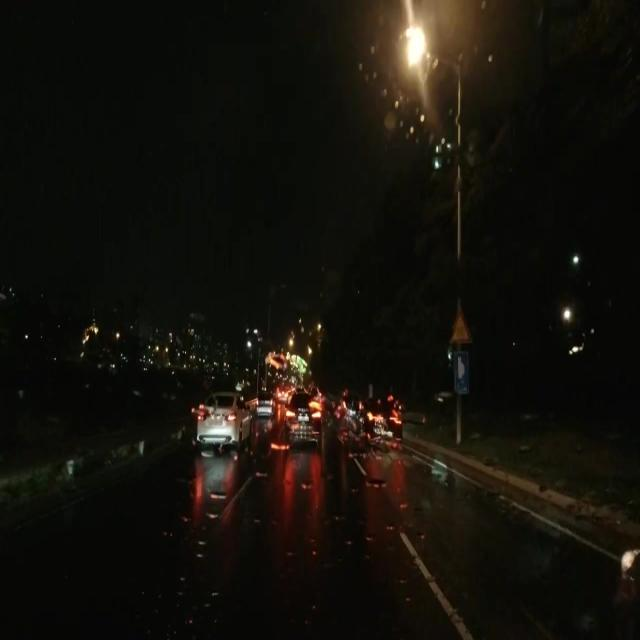Car: (194, 391, 248, 446), (356, 393, 401, 447), (281, 391, 320, 449), (252, 384, 275, 416)
